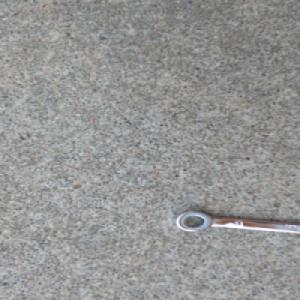Wrench: (174, 209, 300, 237)
